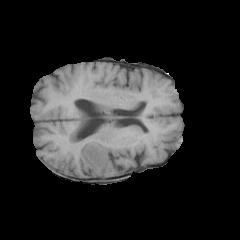glioma: (80, 136, 139, 176)
